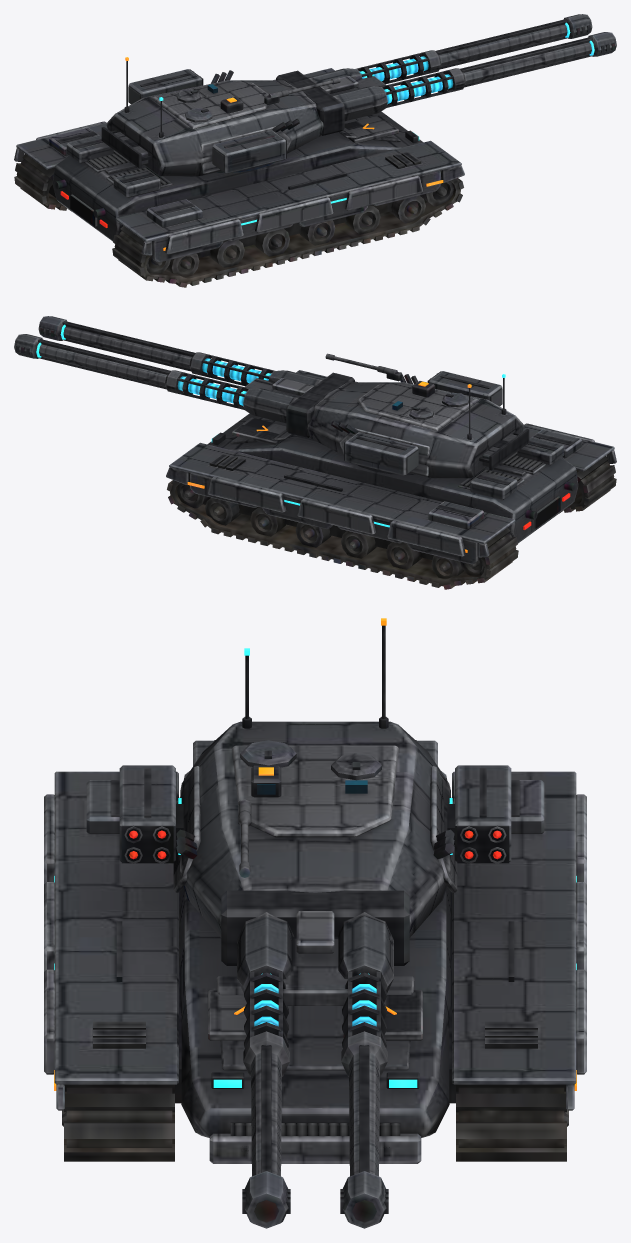
File: bulwark.glb
The picture shows the model from 3 angles, top to bottom: view 1: azimuth 30°, elevation 25°; view 2: azimuth 150°, elevation 25°; view 3: azimuth 270°, elevation 25°; orthographic projection. The views are drawn at different scales.
Visible parts, largest first — view 1: Hull, Turret; view 2: Hull, Turret; view 3: Hull, Turret.
Boxes of the visible parts, <box> form: Hull: <box>14,68,464,287</box>; Turret: <box>101,14,616,176</box>; Hull: <box>166,370,616,589</box>; Turret: <box>14,316,529,478</box>; Hull: <box>44,740,586,1163</box>; Turret: <box>119,618,511,1228</box>.
Bounding box in the file's own units: 12.85 × 3.9 × 5.76.
Materials: 1 (1 with a texture image).
